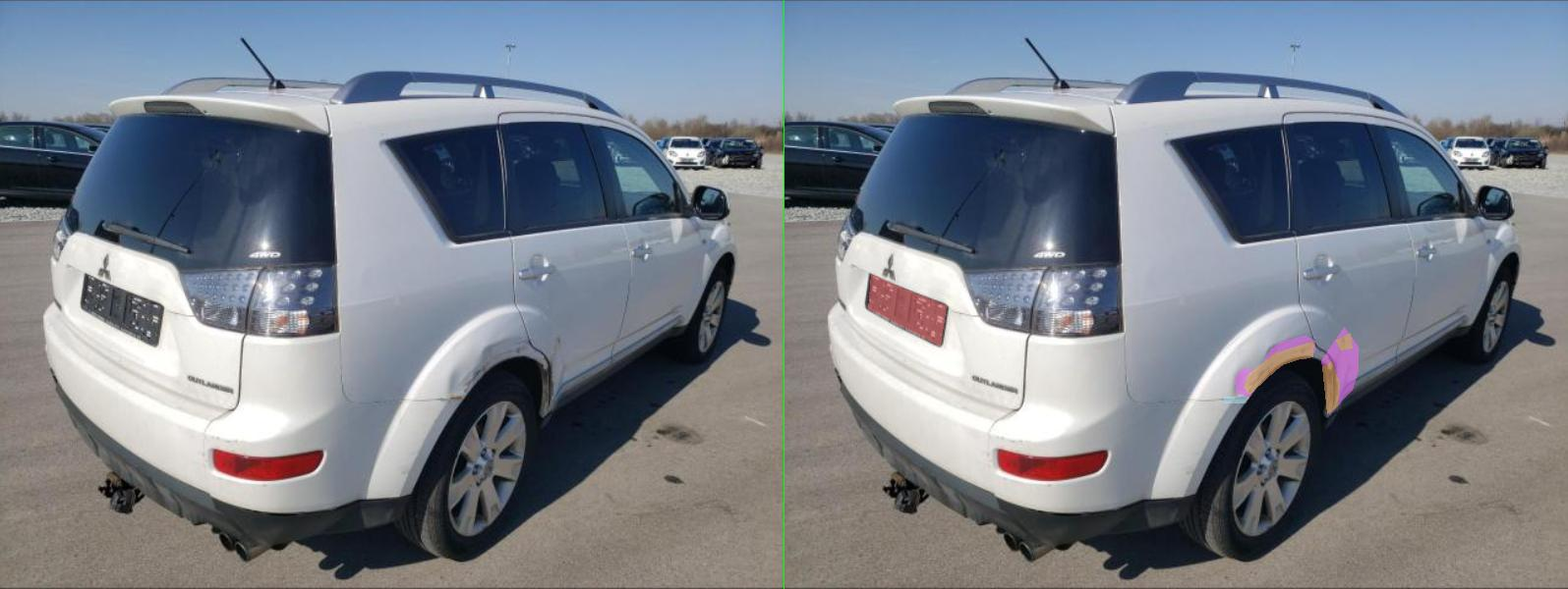Corrosion: (879, 397, 929, 402), (899, 395, 923, 402)
Dent: (901, 336, 1060, 401), (1074, 327, 1147, 413)
Missing part: (167, 274, 323, 346)
Paint chip: (919, 341, 1058, 394), (1076, 361, 1110, 413), (1104, 333, 1135, 349)
